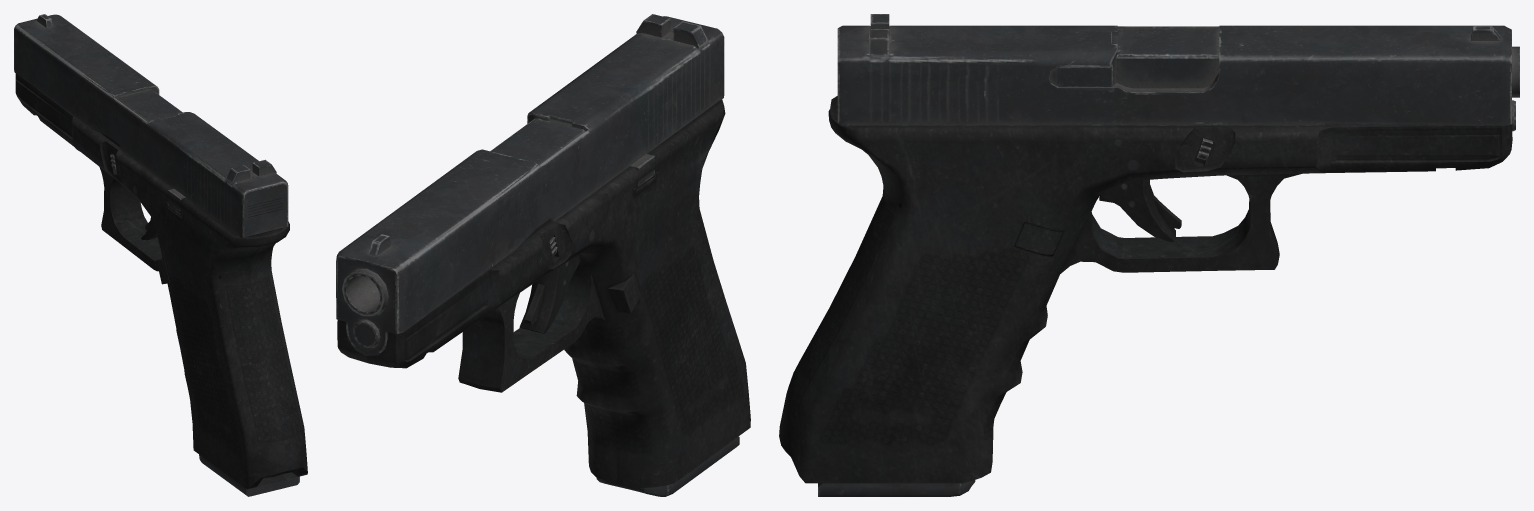
The model's file is Glock17_from_obj.glb.
3 renders of one model, left to right at view 1: azimuth 30°, elevation 25°; view 2: azimuth 150°, elevation 25°; view 3: azimuth 270°, elevation 25°, orthographic. The views are drawn at different scales.
Parts seen in each view (by area): view 1: Glock17, temp_textureEditorIsolateSelectSet Glock17 Slide_75, temp_textureEditorIsolateSelectSet Glock17 Slide_33, temp_textureEditorIsolateSelectSet Glock17 Slide_3, temp_textureEditorIsolateSelectSet Glock17 Slide_1, temp_textureEditorIsolateSelectSet Glock17 Slide_67, temp_textureEditorIsolateSelectSet Glock17 Slide_38, Glock17 Magazine, Glock17 Slide_76, temp_textureEditorIsolateSelectSet Glock17 Slide_40, temp_textureEditorIsolateSelectSet Glock17 Slide_15, temp_textureEditorIsolateSelectSet Glock17 Slide_17 (+3 smaller); view 2: Glock17, temp_textureEditorIsolateSelectSet Glock17 Slide_75, temp_textureEditorIsolateSelectSet Glock17 Slide_33, temp_textureEditorIsolateSelectSet Glock17 Slide_3, temp_textureEditorIsolateSelectSet Glock17 Slide_1, temp_textureEditorIsolateSelectSet Glock17 Slide_67, temp_textureEditorIsolateSelectSet Glock17 Slide_38, Glock17 Trigger, Glock17 Slide_76, temp_textureEditorIsolateSelectSet Glock17 Slide_40, Glock17 Slide_73, temp_textureEditorIsolateSelectSet Glock17 Slide_15 (+9 smaller); view 3: Glock17, temp_textureEditorIsolateSelectSet Glock17 Slide, temp_textureEditorIsolateSelectSet Glock17 Slide_3, temp_textureEditorIsolateSelectSet Glock17 Slide_5, temp_textureEditorIsolateSelectSet Glock17 Slide_39, temp_textureEditorIsolateSelectSet Glock17 Slide_2, temp_textureEditorIsolateSelectSet Glock17 Slide_35, temp_textureEditorIsolateSelectSet Glock17 Slide_1, temp_textureEditorIsolateSelectSet Glock17 Slide_38, temp_textureEditorIsolateSelectSet Glock17 Slide_40, Glock17 Trigger, temp_textureEditorIsolateSelectSet Glock17 Slide_13 (+8 smaller).
Boxes of the visible parts, bbox=[...] form: Glock17: bbox=[15, 73, 307, 489]; temp_textureEditorIsolateSelectSet Glock17 Slide_75: bbox=[14, 40, 146, 168]; temp_textureEditorIsolateSelectSet Glock17 Slide_33: bbox=[167, 112, 285, 225]; temp_textureEditorIsolateSelectSet Glock17 Slide_3: bbox=[49, 14, 156, 89]; temp_textureEditorIsolateSelectSet Glock17 Slide_1: bbox=[19, 19, 134, 94]; temp_textureEditorIsolateSelectSet Glock17 Slide_67: bbox=[14, 26, 112, 110]; temp_textureEditorIsolateSelectSet Glock17 Slide_38: bbox=[180, 129, 252, 230]; Glock17 Magazine: bbox=[199, 454, 299, 496]; Glock17 Slide_76: bbox=[36, 14, 276, 184]; temp_textureEditorIsolateSelectSet Glock17 Slide_40: bbox=[198, 127, 254, 237]; temp_textureEditorIsolateSelectSet Glock17 Slide_15: bbox=[146, 136, 166, 183]; temp_textureEditorIsolateSelectSet Glock17 Slide_17: bbox=[146, 126, 258, 178]; Glock17: bbox=[337, 99, 750, 488]; temp_textureEditorIsolateSelectSet Glock17 Slide_75: bbox=[404, 141, 590, 331]; temp_textureEditorIsolateSelectSet Glock17 Slide_33: bbox=[536, 16, 700, 173]; temp_textureEditorIsolateSelectSet Glock17 Slide_3: bbox=[339, 149, 507, 256]; temp_textureEditorIsolateSelectSet Glock17 Slide_1: bbox=[371, 156, 534, 262]; temp_textureEditorIsolateSelectSet Glock17 Slide_67: bbox=[336, 166, 541, 284]; temp_textureEditorIsolateSelectSet Glock17 Slide_38: bbox=[577, 37, 710, 113]; Glock17 Trigger: bbox=[519, 255, 580, 333]; Glock17 Slide_76: bbox=[368, 14, 707, 313]; temp_textureEditorIsolateSelectSet Glock17 Slide_40: bbox=[565, 34, 723, 106]; Glock17 Slide_73: bbox=[336, 256, 396, 355]; temp_textureEditorIsolateSelectSet Glock17 Slide_15: bbox=[590, 128, 619, 194]; Glock17: bbox=[779, 29, 1519, 483]; temp_textureEditorIsolateSelectSet Glock17 Slide: bbox=[1212, 77, 1504, 125]; temp_textureEditorIsolateSelectSet Glock17 Slide_3: bbox=[1219, 39, 1504, 63]; temp_textureEditorIsolateSelectSet Glock17 Slide_5: bbox=[1203, 88, 1500, 125]; temp_textureEditorIsolateSelectSet Glock17 Slide_39: bbox=[889, 77, 1050, 125]; temp_textureEditorIsolateSelectSet Glock17 Slide_2: bbox=[1218, 63, 1504, 77]; temp_textureEditorIsolateSelectSet Glock17 Slide_35: bbox=[891, 83, 1057, 125]; temp_textureEditorIsolateSelectSet Glock17 Slide_1: bbox=[1219, 25, 1504, 38]; temp_textureEditorIsolateSelectSet Glock17 Slide_38: bbox=[889, 31, 1057, 71]; temp_textureEditorIsolateSelectSet Glock17 Slide_40: bbox=[889, 44, 1057, 77]; Glock17 Trigger: bbox=[1099, 179, 1181, 242]; temp_textureEditorIsolateSelectSet Glock17 Slide_13: bbox=[1132, 93, 1203, 125].
Bounding box in the file's own units: 0.9082 × 4.4 × 6.53.
1 material, 1 textured.
